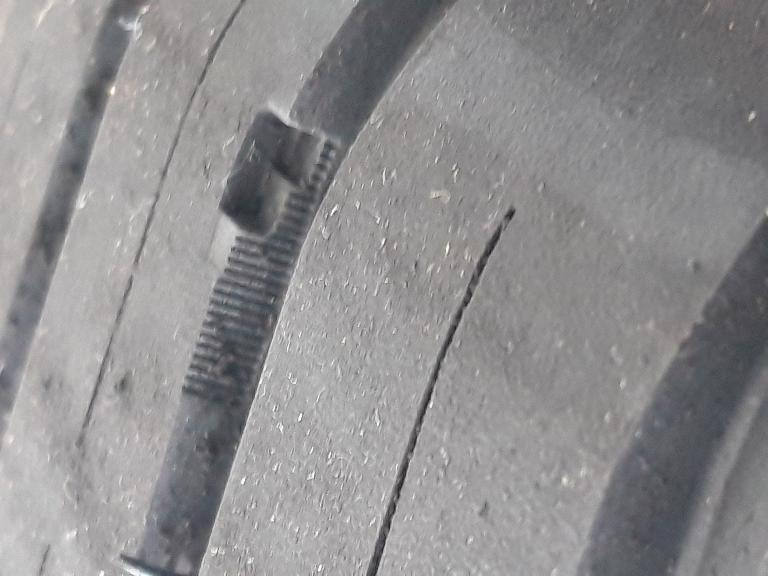temoin:50: (196, 97, 360, 304)
